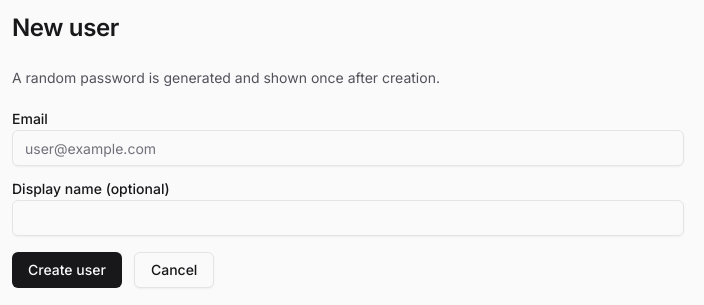
Test: AdminUserNewRoute › submits the email and a generated password and shows the reveal-once panel on success
Type "newbie@example.com" into the field labelled "Email".
click(348, 148); type("newbie@example.com")  # box [12,130,684,166]
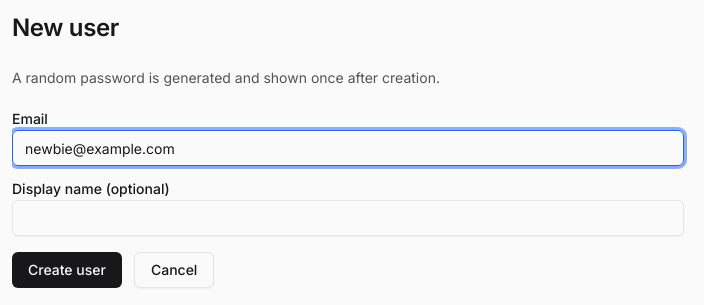
Click the button "Create user".
click(67, 270)  # box [12,252,122,288]
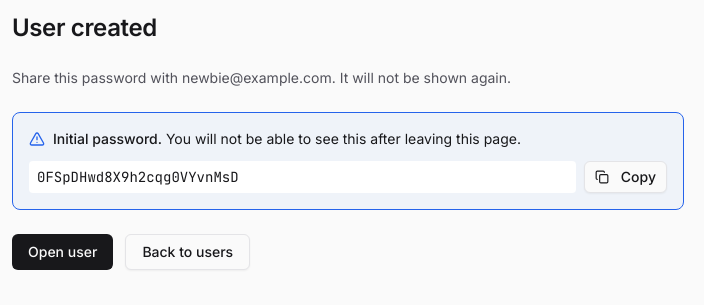
Expected: the heading "User created" is shown, [12,13,157,42]
Expected: the text "newbie@example.com" is shown, [182,69,332,86]
